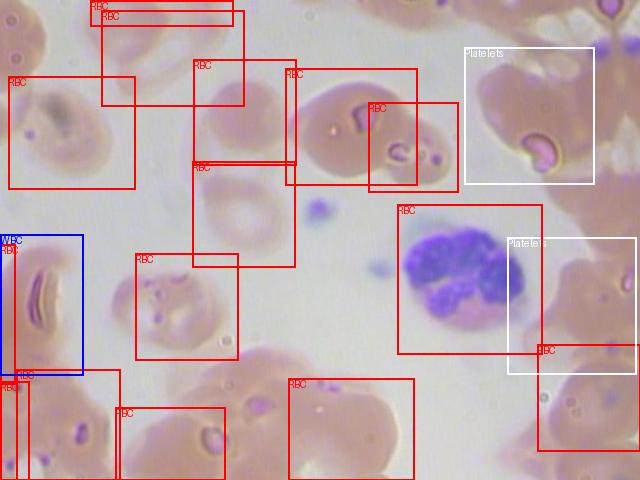Platelets: (464, 47, 594, 184), (507, 237, 636, 374)
RBC: (397, 204, 542, 354), (285, 68, 417, 185), (8, 76, 135, 189), (101, 10, 244, 106), (288, 378, 414, 480), (16, 369, 120, 480), (135, 253, 238, 360), (537, 344, 640, 451), (193, 59, 296, 165), (192, 161, 295, 267), (368, 102, 458, 192), (115, 407, 225, 480), (90, 0, 233, 26), (0, 381, 29, 480), (0, 244, 15, 384)
WBC: (0, 234, 83, 375)
